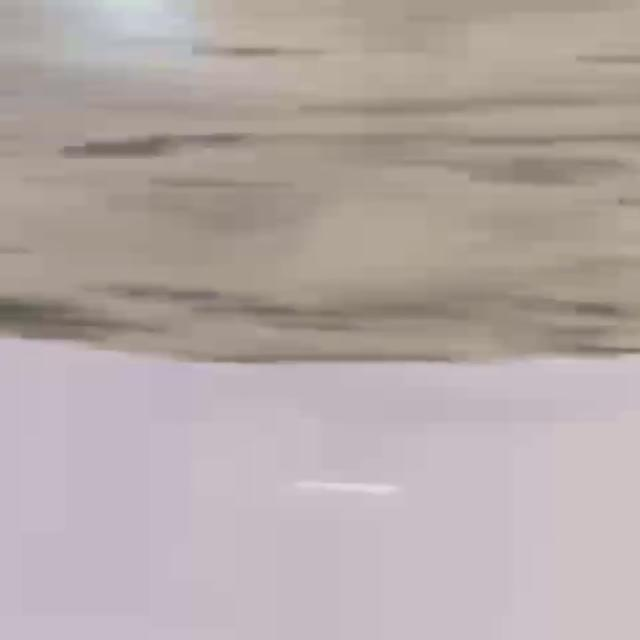road: (0, 340, 638, 640)
